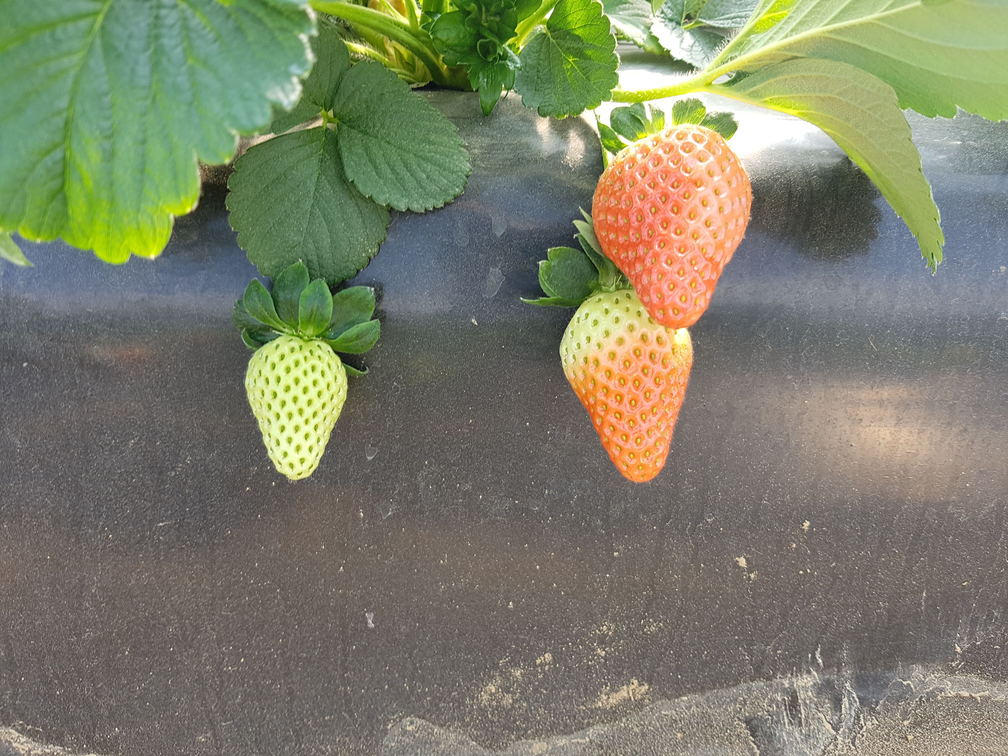peduncle: (615, 72, 701, 103)
strawberry: (592, 124, 751, 327), (561, 289, 691, 479), (246, 336, 346, 478)
